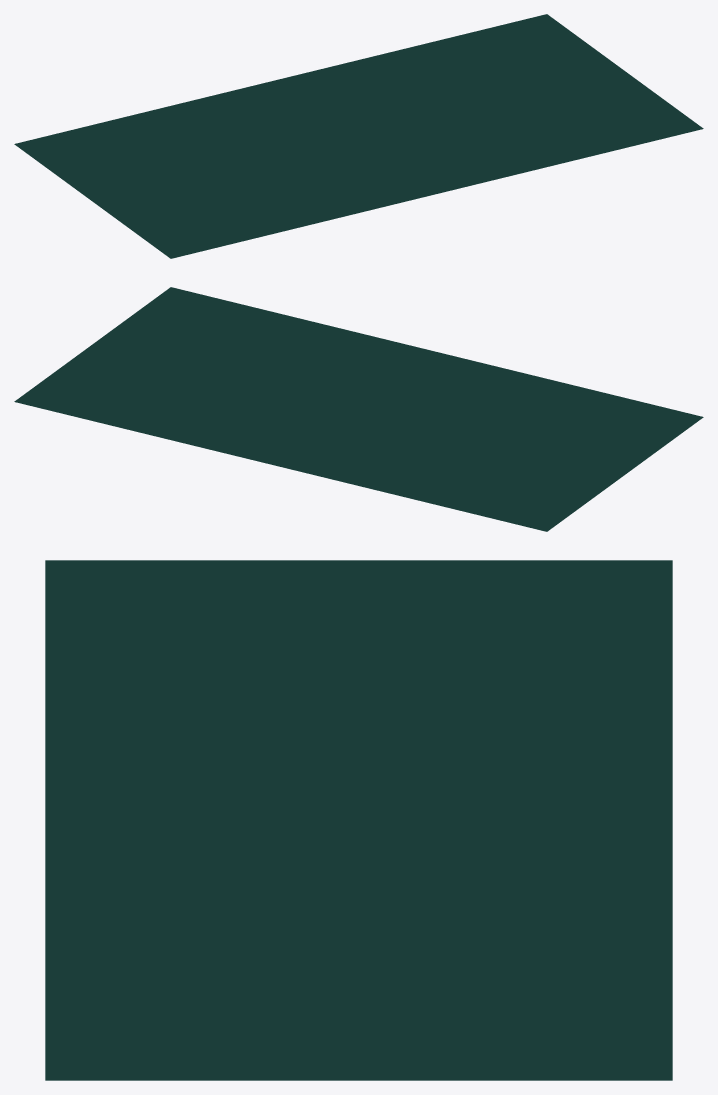
Rendered from felt_floor.glb.
The picture shows the model from 3 angles, top to bottom: view 1: azimuth 30°, elevation 25°; view 2: azimuth 150°, elevation 25°; view 3: azimuth 270°, elevation 25°; orthographic projection. The views are drawn at different scales.
Visible parts, largest first — view 1: felt_floor; view 2: felt_floor; view 3: felt_floor.
Boxes of the visible parts, bbox=[...] form: felt_floor: bbox=[14, 14, 703, 258]; felt_floor: bbox=[14, 287, 703, 531]; felt_floor: bbox=[45, 560, 672, 1080].
Size of the model in its own units: 2.04 by 0 by 1.04.
